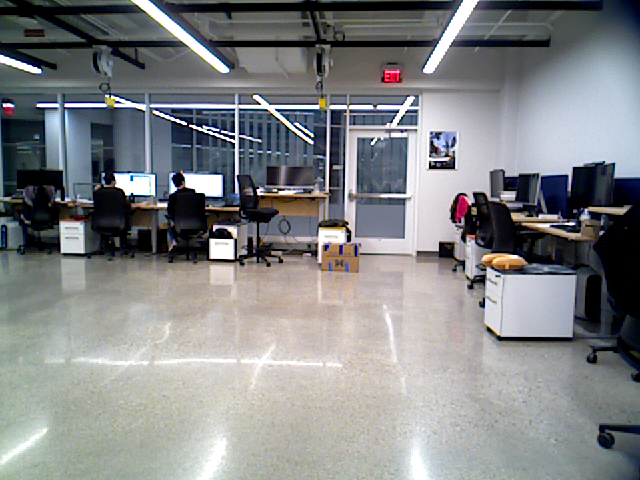painting3: (427, 132, 457, 172)
